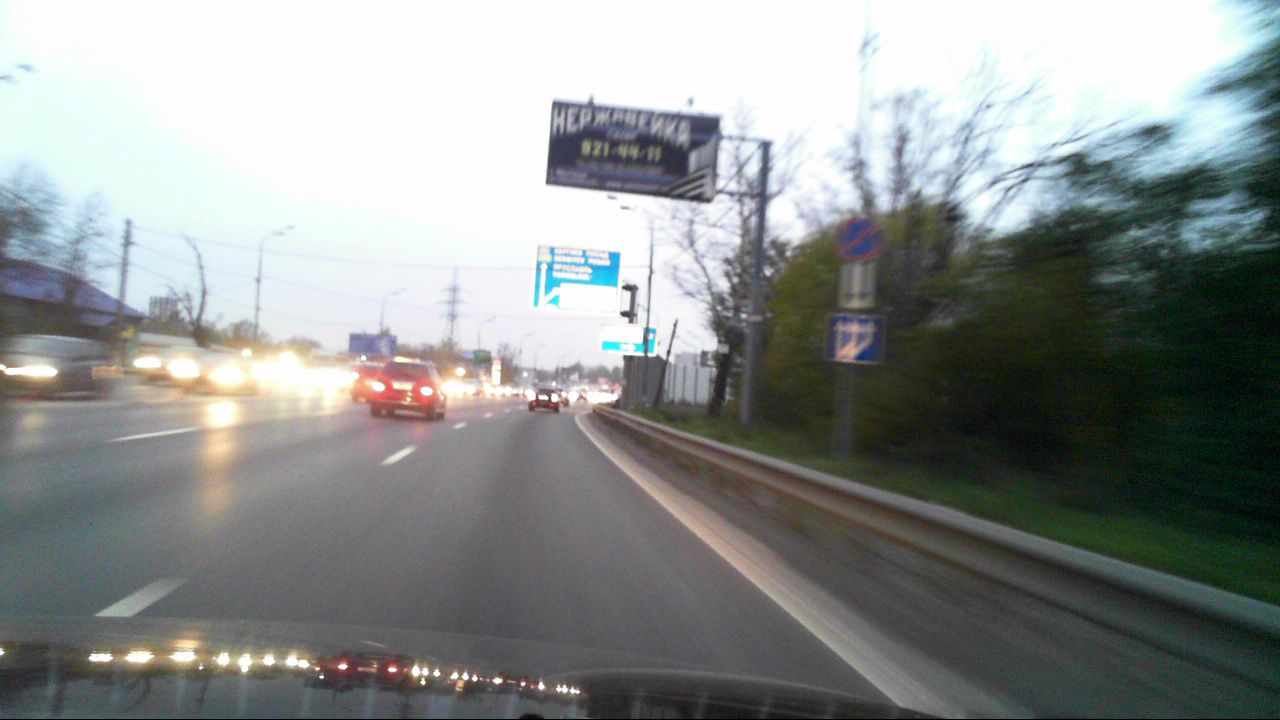No Parking: (839, 216, 884, 259)
